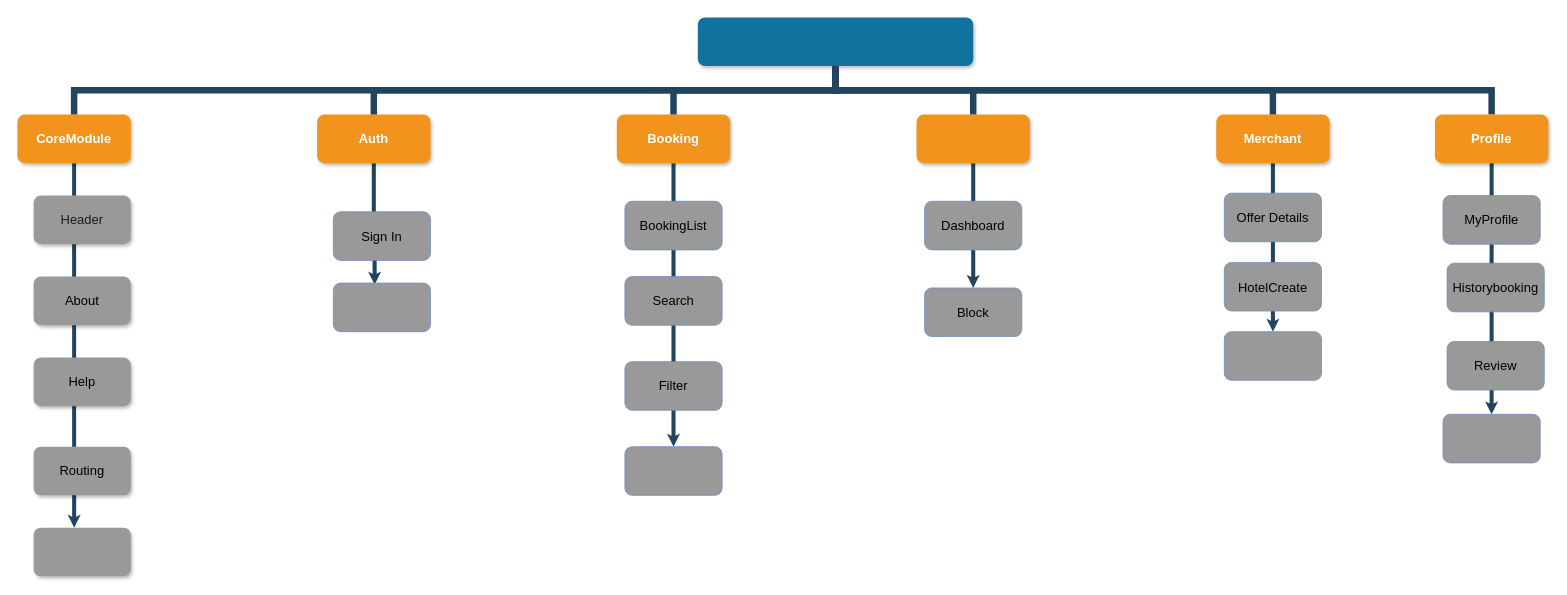
Some shapes in this 1567 by 595 pixel diagram are drawn without their labels. The shapes that lost their labels are listed below. From the top down, each one's centre as x and y in pixels, then its label:
(836,42): Hotel Booking
(973,139): Admin
(382,307): SignUp
(1273,355): Hotel Edit
(1491,438): Complaint
(673,470): HotelView
(82,553): Footer
